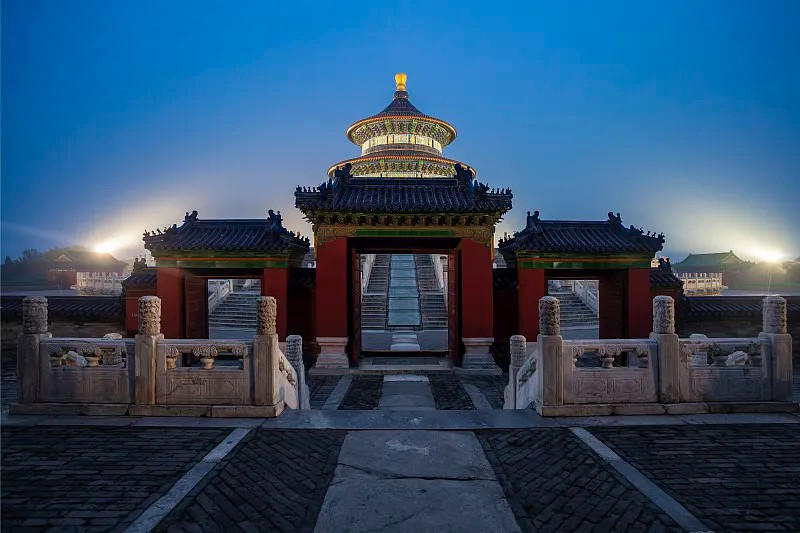Heaven: (327, 71, 479, 179)
